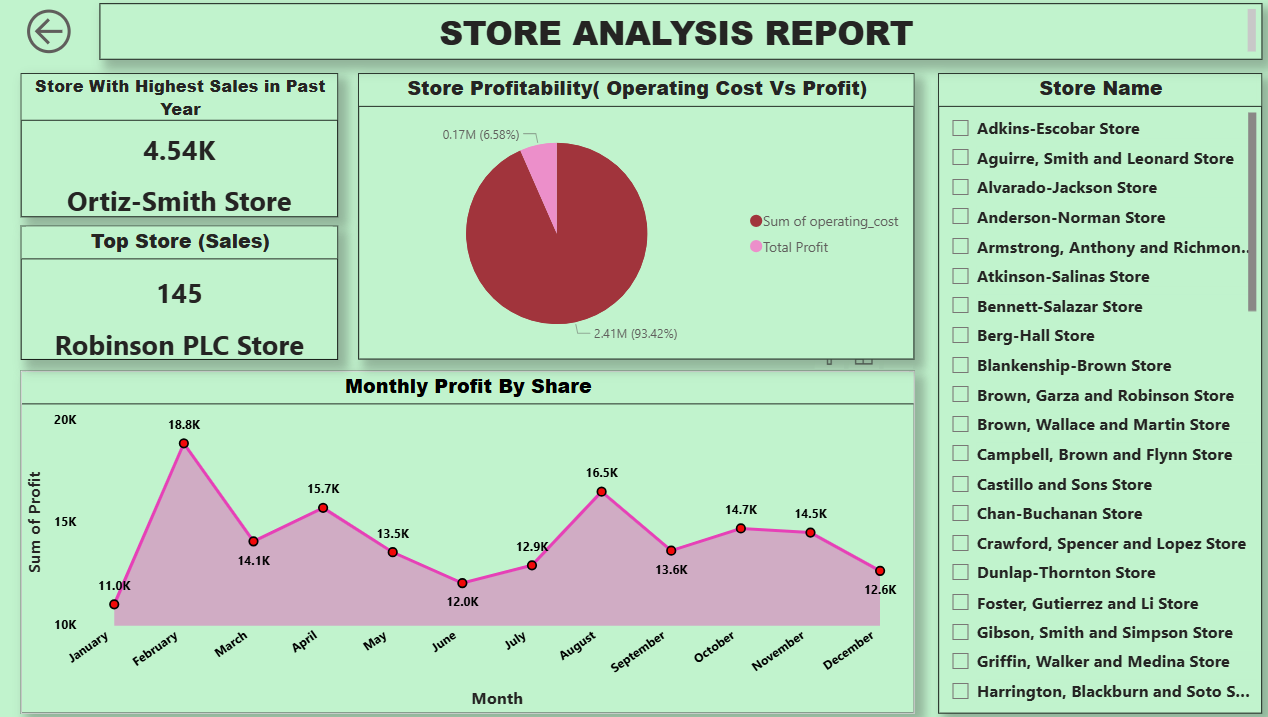

The page's visual inventory and layout, read from the dashboard file:
{"tool":"powerbi","page":{"name":"Page 4","canvas":[1280,720],"ordinal":3},"visuals":[{"type":"lineChart","title":"Monthly Profit By Share","fields":{"Category":["sales_cleaned.order_date.Variation.Date Hierarchy.Month"],"Y":["products_cleaned.Total Profit"]},"box":[33,370.5,874.3,335.1],"z":0},{"type":"kpi","title":"Store With Highest Sales in Past Year","fields":{"Indicator":["Sum(highest_profit_in_past_year.Column2)"],"TrendLine":["highest_profit_in_past_year.Column1"]},"box":[33,79.5,310.6,140.6],"z":1000},{"type":"kpi","title":"Top Store (Sales)","fields":{"TrendLine":["stores_cleaned.store_name"],"Indicator":["Sum(sales_cleaned.quantity)"]},"box":[33,228.7,310.6,130.8],"z":2000},{"type":"pieChart","title":"Store Profitability( Operating Cost Vs Profit)","fields":{"Y":["Sum(stores_cleaned.operating_cost)","products_cleaned.Total Profit"]},"box":[363.2,79.5,544.2,280],"z":3000},{"type":"slicer","title":"Store Name","fields":{"Values":["stores_cleaned.store_name"]},"box":[930.6,79.5,316.7,626.1],"z":4000},{"type":"textbox","box":[110.1,11,1137.2,55],"z":5000},{"type":"actionButton","box":[33,11,57.5,55],"z":6000}]}

Visuals, with their boxes in screenshot pixels (x1, y1, x2, y2), scaled from the page's 1280x720 canvas onto the 1268x717 screenshot:
"Monthly Profit By Share" lineChart: [x1=33, y1=369, x2=899, y2=703]
"Store With Highest Sales in Past Year" kpi: [x1=33, y1=79, x2=340, y2=219]
"Top Store (Sales)" kpi: [x1=33, y1=228, x2=340, y2=358]
"Store Profitability( Operating Cost Vs Profit)" pieChart: [x1=360, y1=79, x2=899, y2=358]
"Store Name" slicer: [x1=922, y1=79, x2=1236, y2=703]
textbox: [x1=109, y1=11, x2=1236, y2=66]
actionButton: [x1=33, y1=11, x2=90, y2=66]
